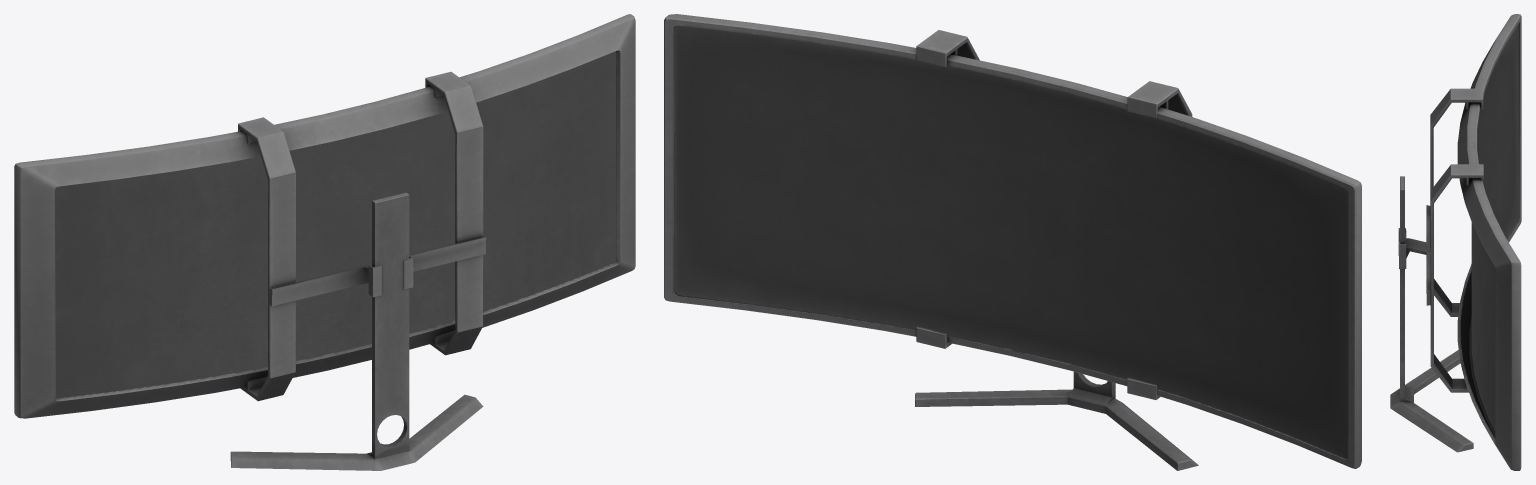
File: Tv 60 Inch 1.FBX
The picture shows the model from 3 angles, left to right: view 1: azimuth 30°, elevation 25°; view 2: azimuth 150°, elevation 25°; view 3: azimuth 270°, elevation 25°; orthographic projection. The views are drawn at different scales.
Parts seen in each view (by area): view 1: TV 60 inch 1 (×3); view 2: TV 60 inch 1 (×3); view 3: TV 60 inch 1 (×3).
Part boxes in pixels (x1,y1,x2,y2): TV 60 inch 1 (×3): (14, 14, 635, 470); TV 60 inch 1 (×3): (664, 14, 1361, 470); TV 60 inch 1 (×3): (1390, 14, 1521, 470).
Bounding box in the file's own units: 2.22 × 0.4941 × 1.12.
